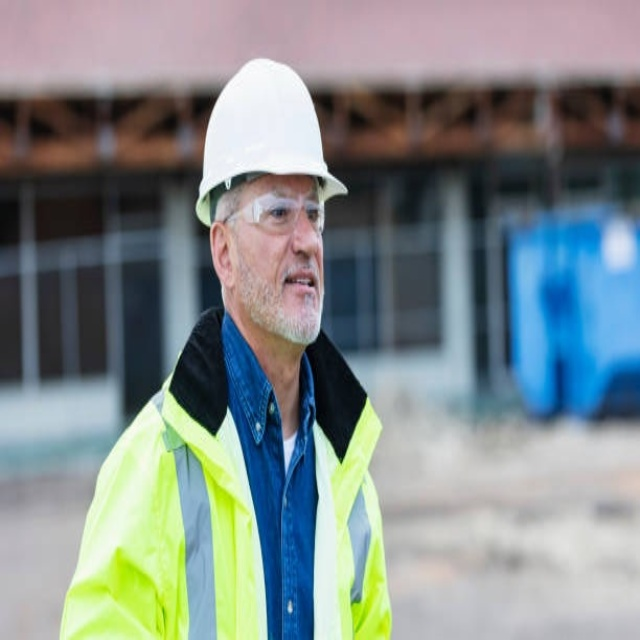Gafas: (221, 192, 330, 237)
Sin_mascara: (277, 261, 322, 327)
